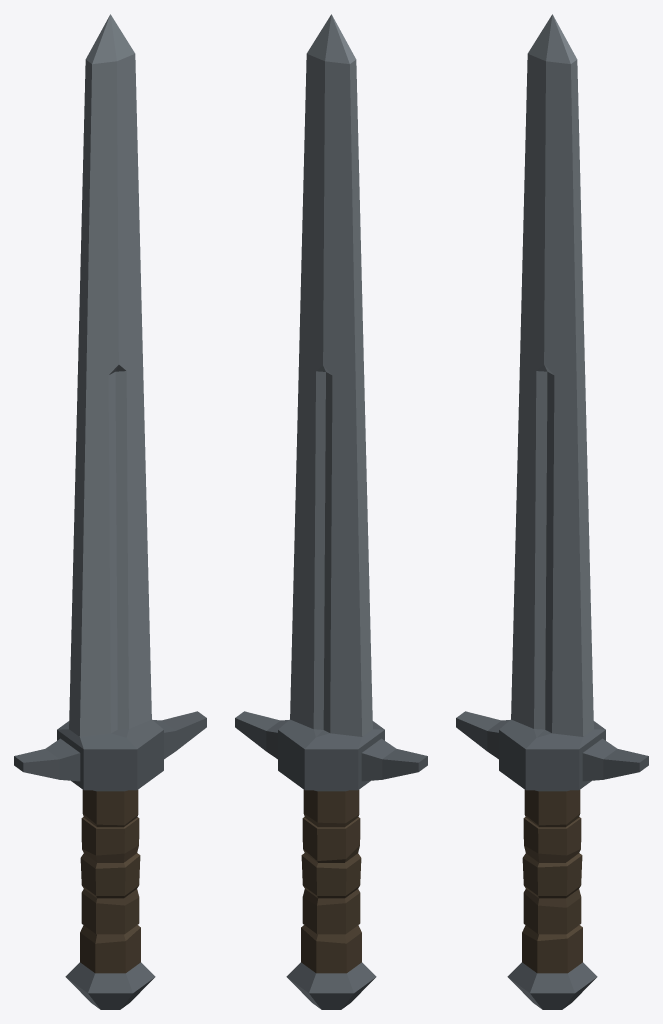
Rendered from ShortSword.glb.
3 renders of one model, left to right at view 1: azimuth 30°, elevation 25°; view 2: azimuth 150°, elevation 25°; view 3: azimuth 330°, elevation 25°, orthographic.
Parts seen in each view (by area): view 1: ShortSword; view 2: ShortSword; view 3: ShortSword.
Boxes of the visible parts, box(x1,y1,x2,y2) form: ShortSword: box(14, 14, 206, 1009); ShortSword: box(235, 14, 427, 1009); ShortSword: box(456, 14, 648, 1009).
Size of the model in its own units: 0.1725 by 0.8877 by 0.0871.
Materials: 1 (1 with a texture image).
